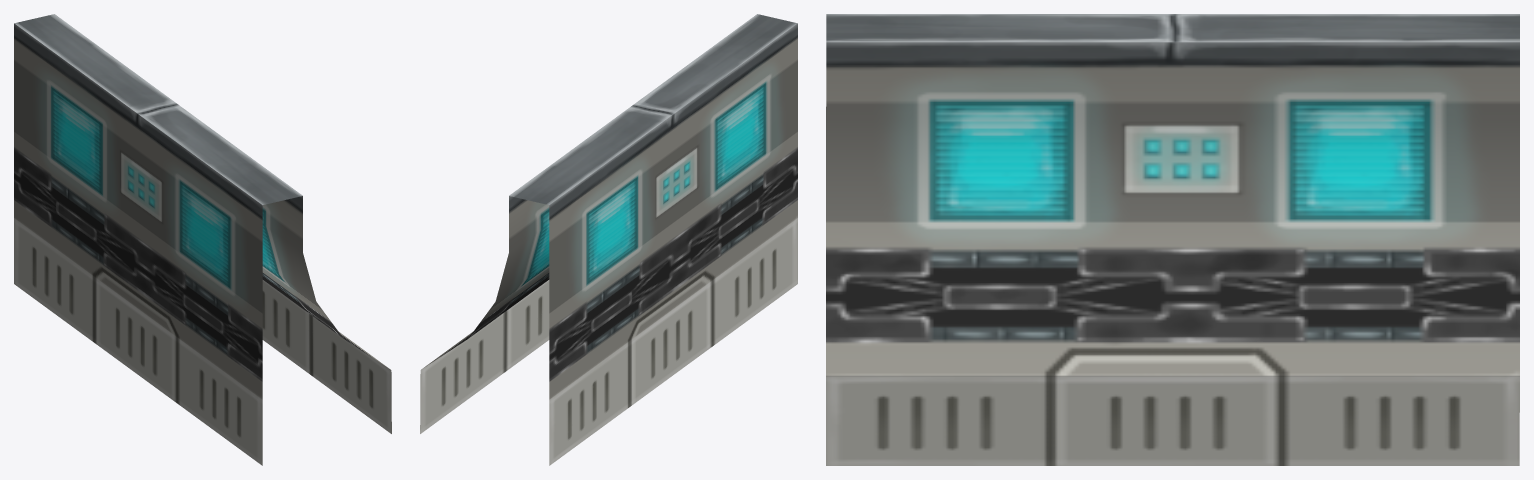
File: Wall_Computer.fbx
The picture shows the model from 3 angles, left to right: view 1: azimuth 30°, elevation 25°; view 2: azimuth 150°, elevation 25°; view 3: azimuth 270°, elevation 25°; orthographic projection. The views are drawn at different scales.
Visible parts, largest first — view 1: Wall_Computer; view 2: Wall_Computer; view 3: Wall_Computer.
Boxes of the visible parts, <box> form: Wall_Computer: <box>14,14,391,465</box>; Wall_Computer: <box>420,14,797,465</box>; Wall_Computer: <box>826,14,1519,465</box>.
Size of the model in its own units: 0.6008 by 1.16 by 2.
